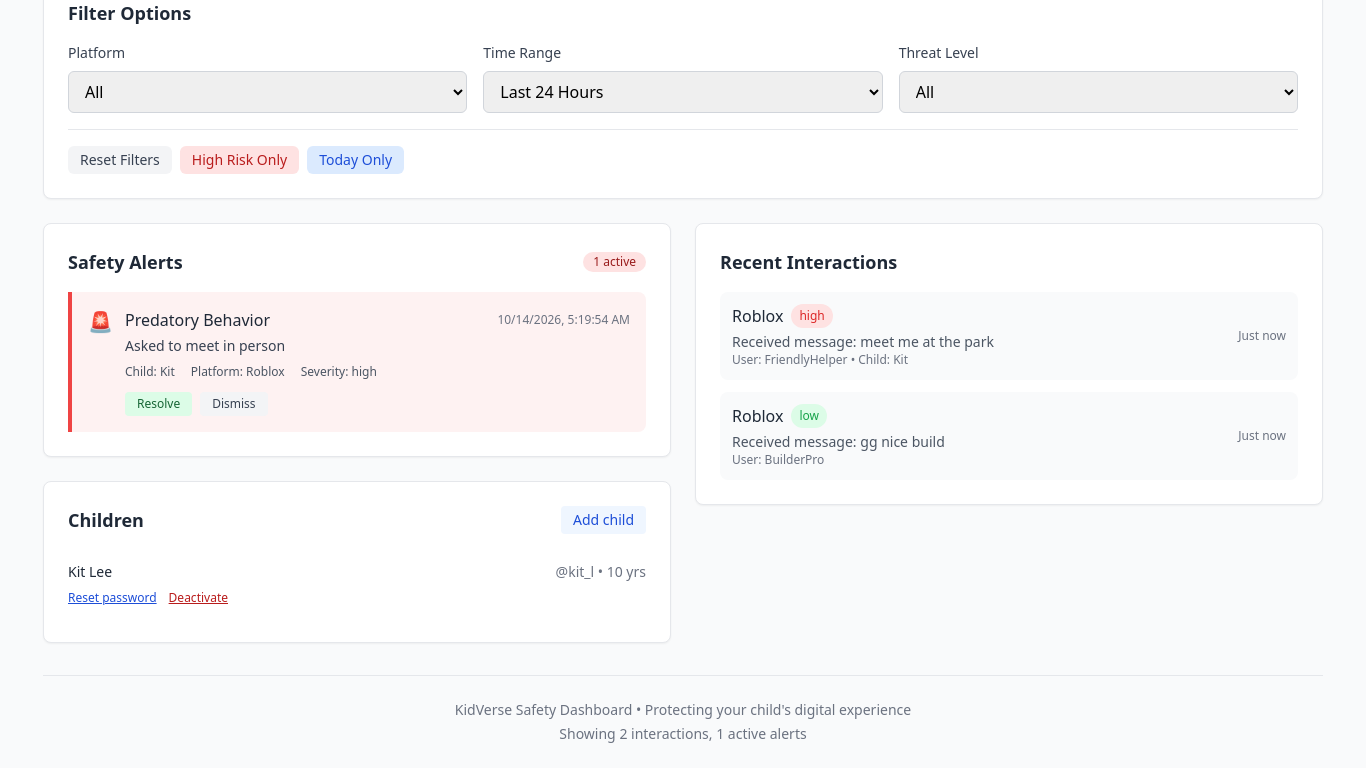
Dashboard children › keeps the form open and shows the server's reasons when creation fails
The image size is (1366, 768).
(page scrolled)
Click the button "Add child": (604, 520) left=561, top=506, right=646, bottom=534
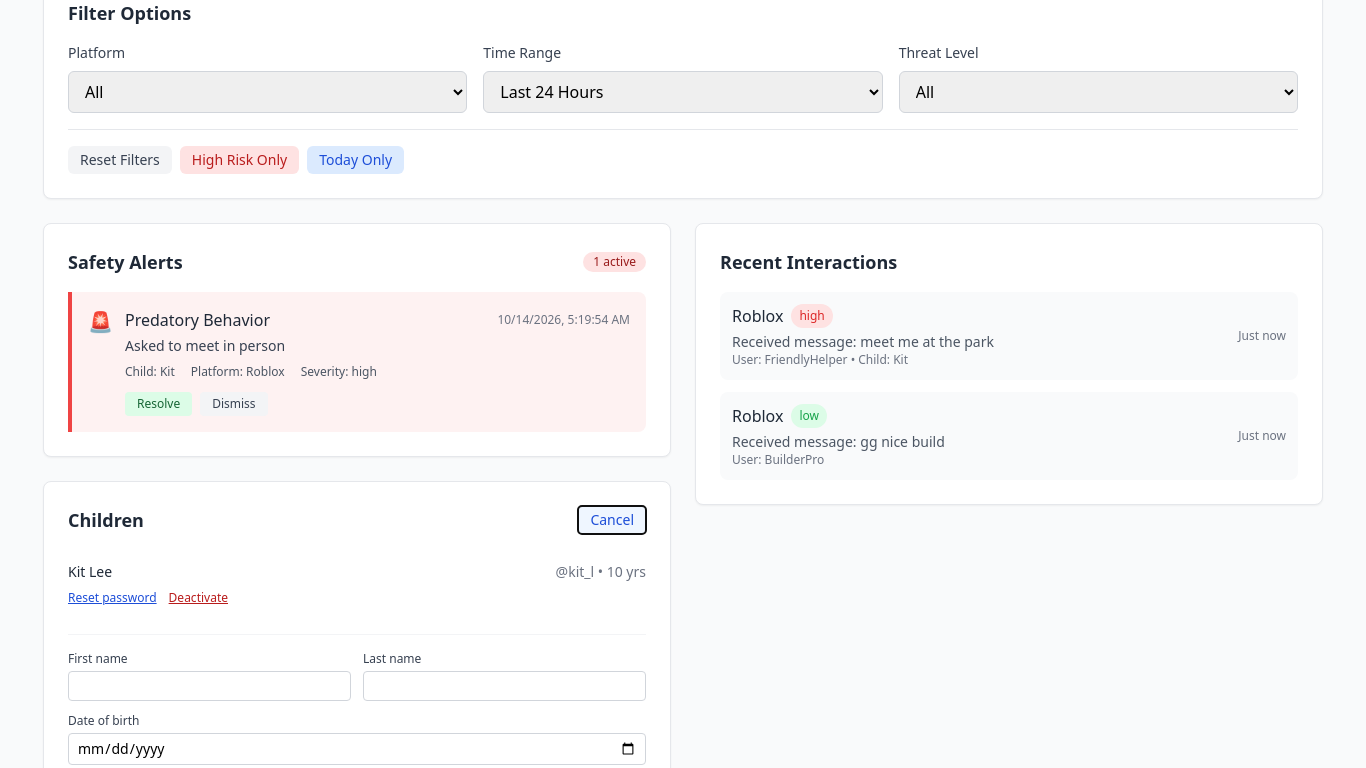
In the field labelled "First name": (210, 686) left=68, top=671, right=351, bottom=701, type "Sam"
In the field labelled "Last name": (504, 686) left=363, top=671, right=646, bottom=701, type "Lee"
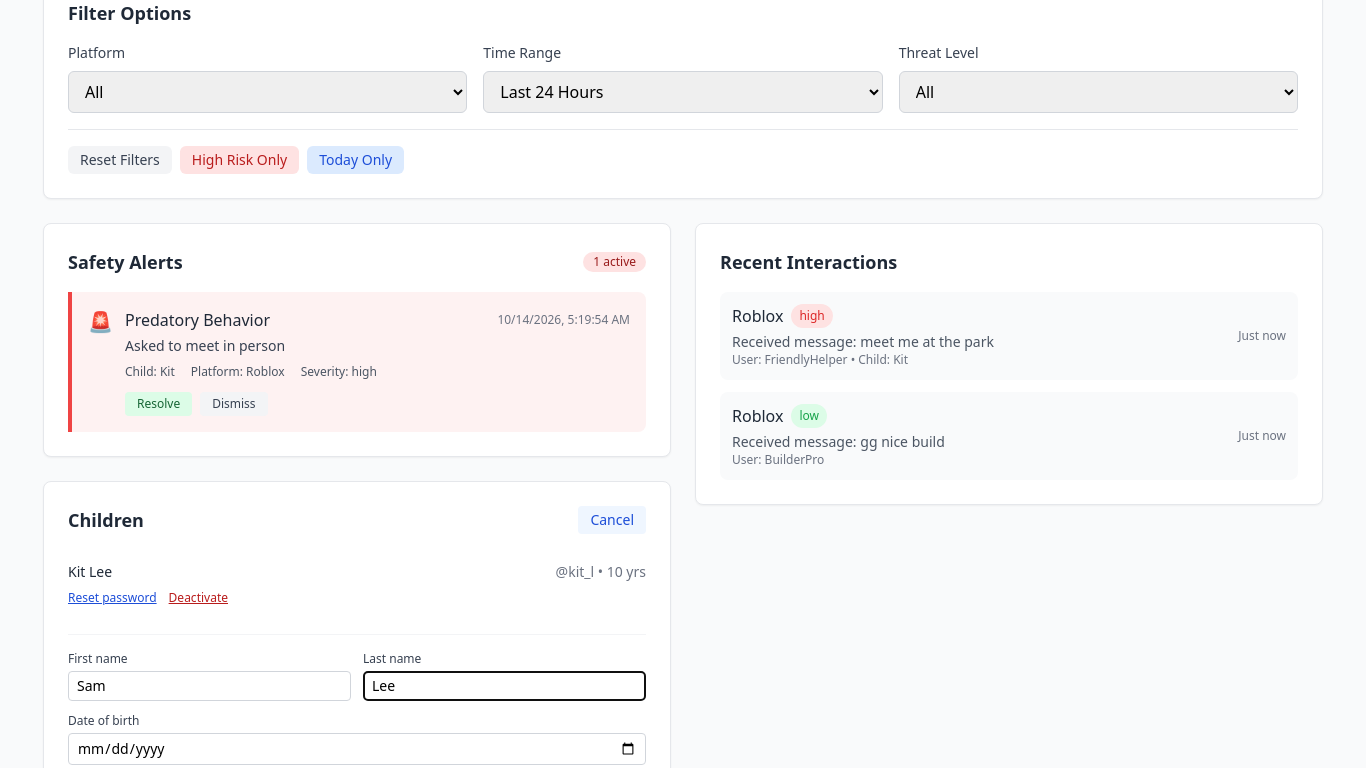
In the date field labelled "Date of birth": (357, 749) left=68, top=733, right=646, bottom=765, type "2015-03-04"
(page scrolled)
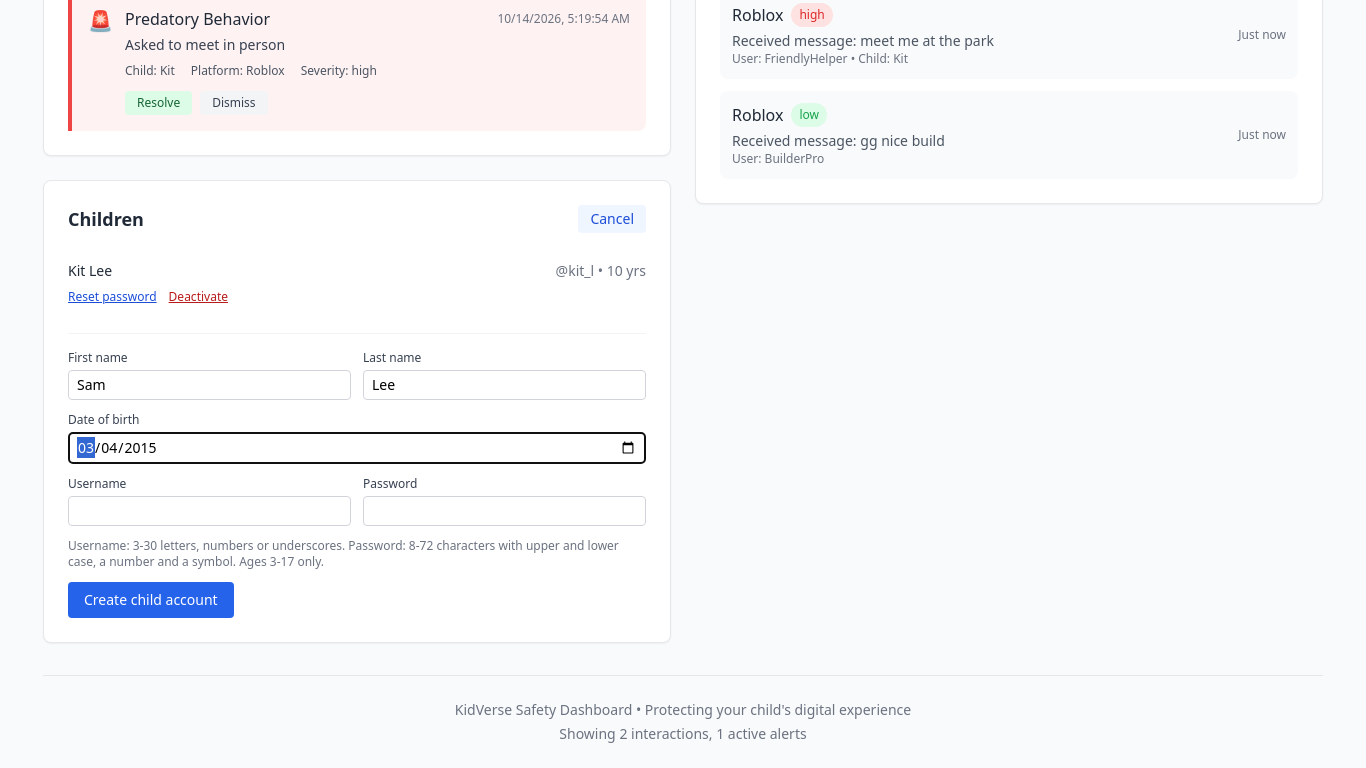
In the field labelled "Username": (210, 511) left=68, top=496, right=351, bottom=526, type "sam_l"
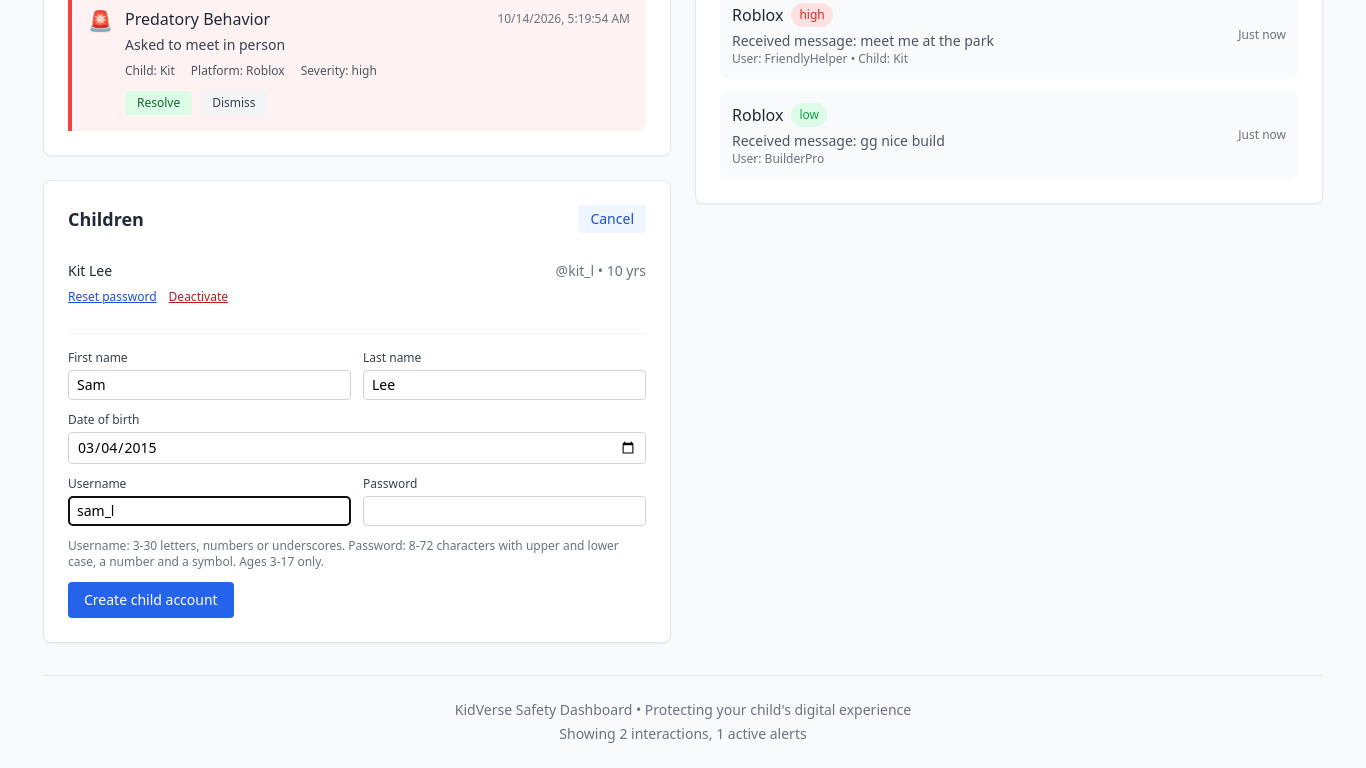
In the password field labelled "Password": (504, 511) left=363, top=496, right=646, bottom=526, type "Kid5!Password"
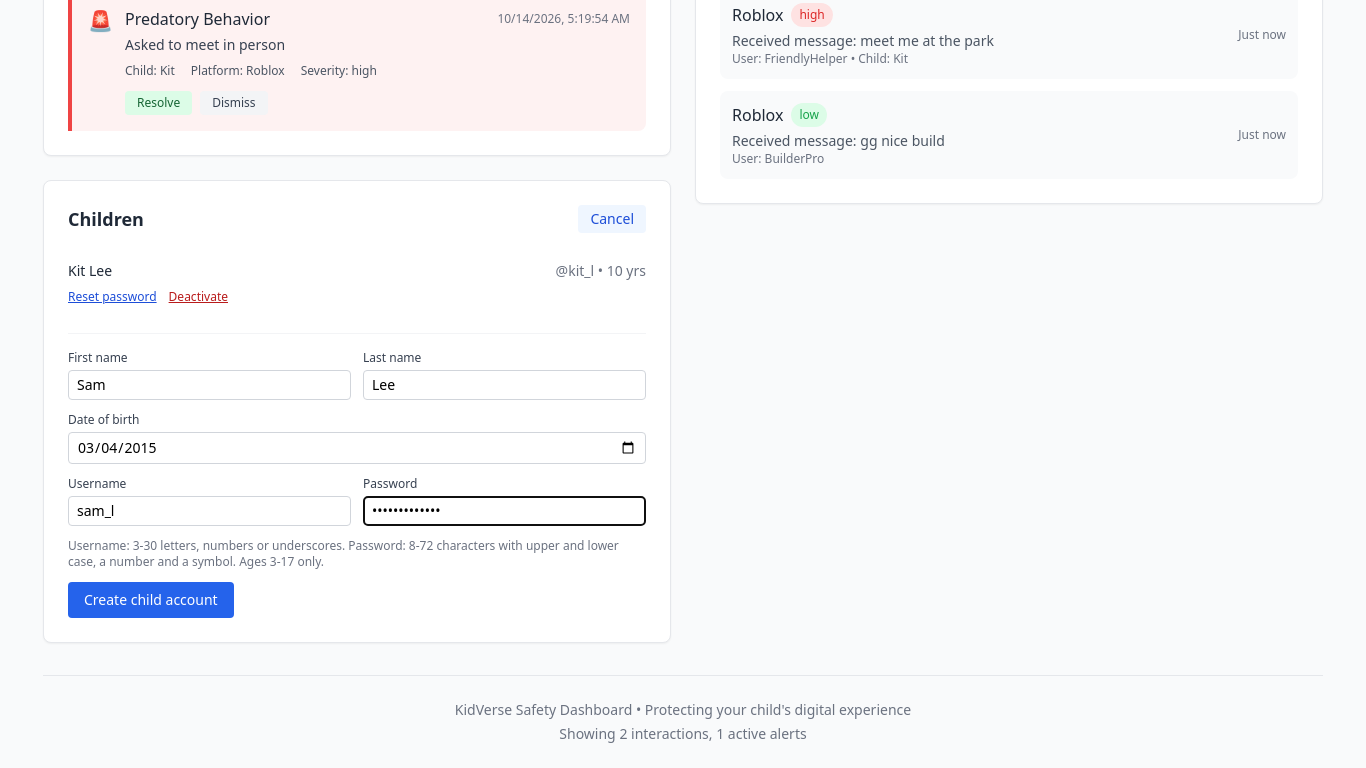
Click the button "Create child account": (151, 600) left=68, top=582, right=234, bottom=618
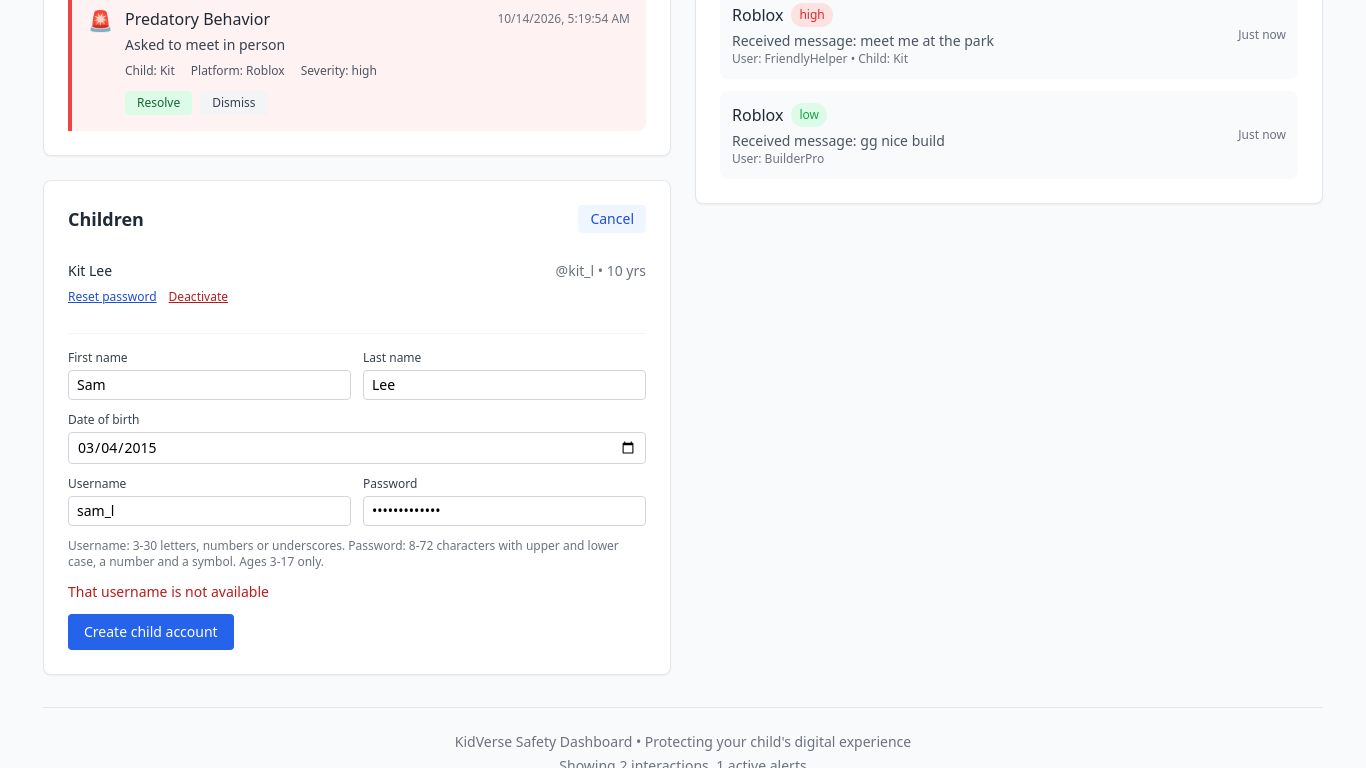
Check: the button "Create child account" is enabled, box left=68, top=614, right=234, bottom=650
Check: the message reads "That username is not available", box left=68, top=582, right=269, bottom=601
